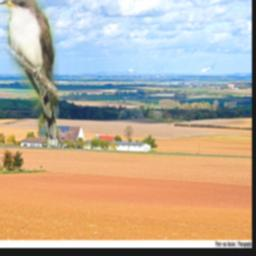Cuckoo: (0, 0, 59, 148)
